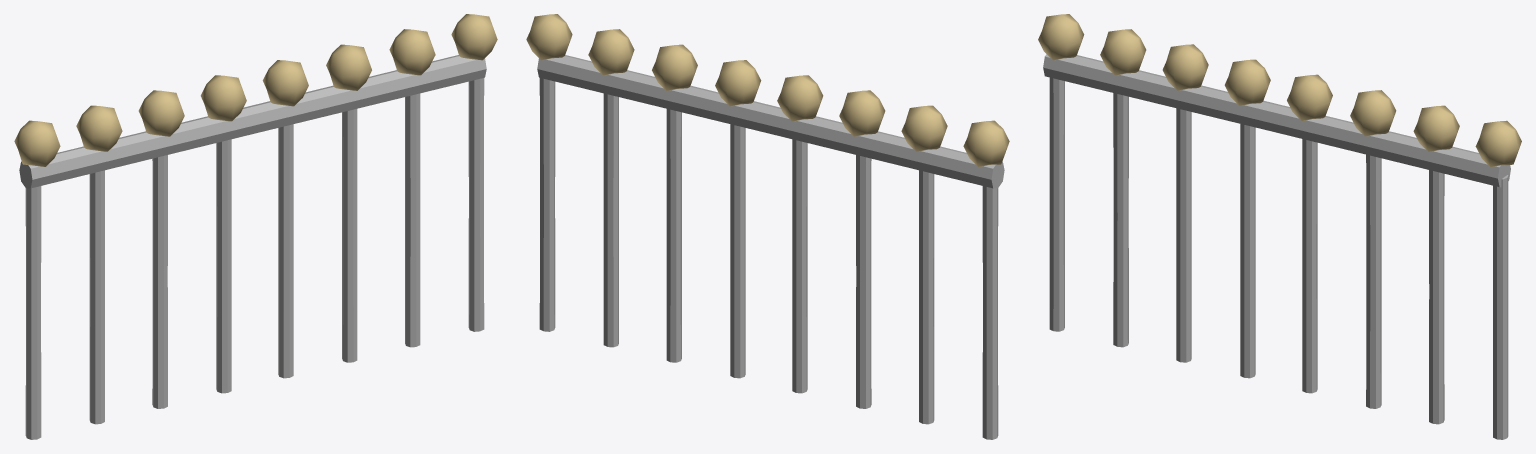
Rendered from fence .fbx.
3 renders of one model, left to right at view 1: azimuth 30°, elevation 25°; view 2: azimuth 150°, elevation 25°; view 3: azimuth 330°, elevation 25°, orthographic.
Parts seen in each view (by area): view 1: top3, pCube11.001, pCube9.001, pCube13.001, pCube15.001, pCube16.001, pCube14.001, pCube12.001, pCube10.001, pCube20, pCube17, pCube18 (+5 smaller); view 2: top3, pCube11.001, pCube9.001, pCube13.001, pCube15.001, pCube16.001, pCube14.001, pCube12.001, pCube10.001, pCube17, pCube20, pCube18 (+5 smaller); view 3: top3, pCube14.001, pCube12.001, pCube16.001, pCube9.001, pCube11.001, pCube13.001, pCube10.001, pCube15.001, pCube22, pCube20, pCube23 (+5 smaller).
Boxes of the visible parts, x1,y1,x2,y2 form: top3: (19,55,486,188); pCube11.001: (216,139,231,393); pCube9.001: (25,186,41,439); pCube13.001: (405,93,420,347); pCube15.001: (342,109,357,362); pCube16.001: (278,124,293,378); pCube14.001: (468,78,484,331); pCube12.001: (152,155,167,408); pCube10.001: (89,170,104,424); pCube20: (138,90,184,136); pCube17: (14,120,60,166); pCube18: (76,105,122,151); top3: (537,55,1004,188); pCube11.001: (792,139,807,393); pCube9.001: (982,186,998,439); pCube13.001: (603,93,618,347); pCube15.001: (666,109,681,362); pCube16.001: (730,124,745,378); pCube14.001: (539,78,555,331); pCube12.001: (856,155,871,408); pCube10.001: (919,170,934,424); pCube17: (963,120,1009,166); pCube20: (839,90,885,136); pCube18: (901,105,947,151); top3: (1043,54,1510,187); pCube14.001: (1493,175,1508,439); pCube12.001: (1176,108,1191,362); pCube16.001: (1302,139,1317,393); pCube9.001: (1049,77,1064,331); pCube11.001: (1240,124,1255,378); pCube13.001: (1429,170,1444,424); pCube10.001: (1113,93,1128,347); pCube15.001: (1366,154,1381,408); pCube22: (1475,120,1521,166); pCube20: (1162,44,1208,90); pCube23: (1350,90,1396,136).
Size of the model in its own units: 70.47 by 44.47 by 5.71.
